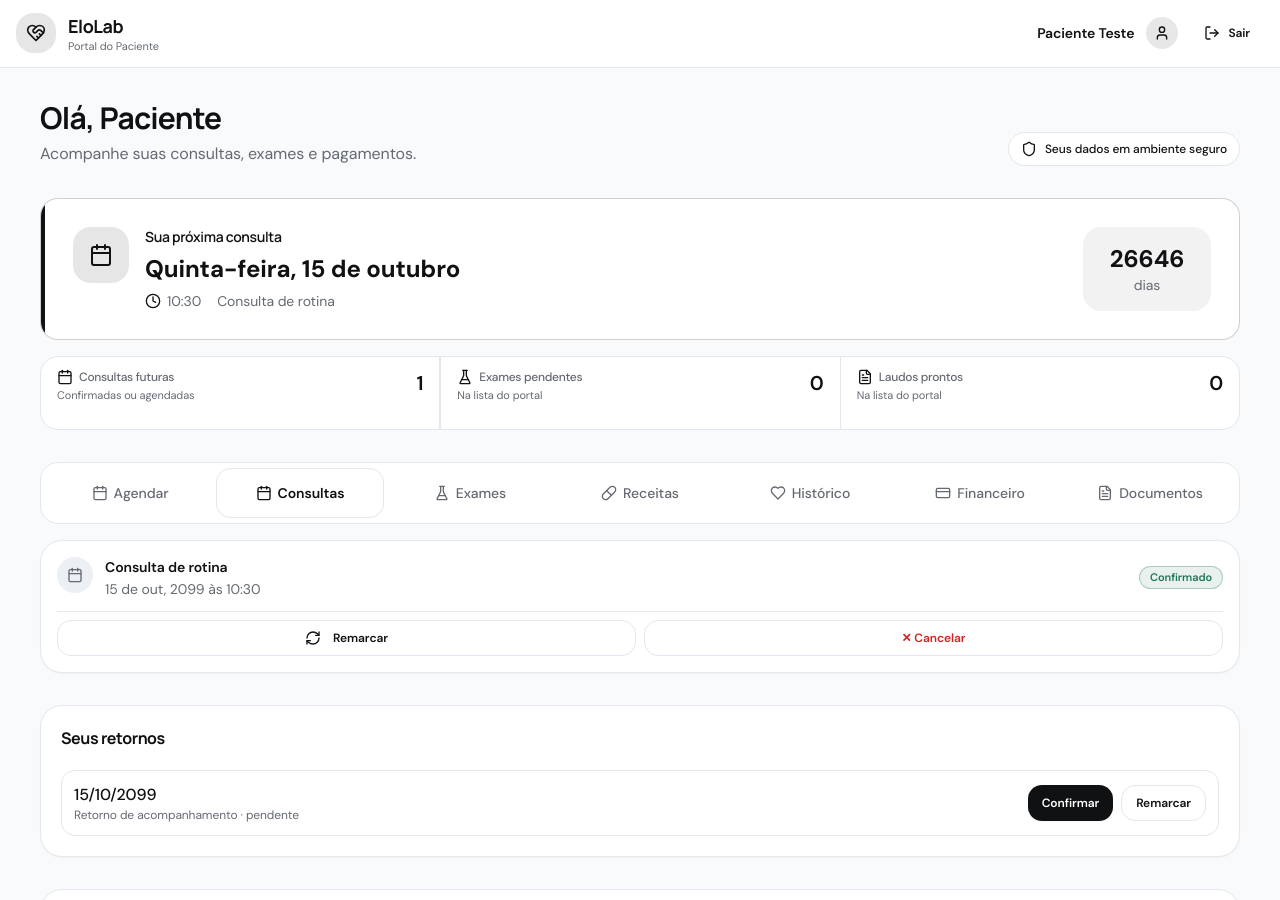
PortalPaciente — cancelamento de consulta › mostra a consulta remarcada como agendada mesmo se a atualização da lista falhar
Check: the text "Confirmado" is shown, box [1139,566,1223,589]
Click the button "Remarcar" below "15 de out, 2099" at (346, 638), box [57,620,636,656]
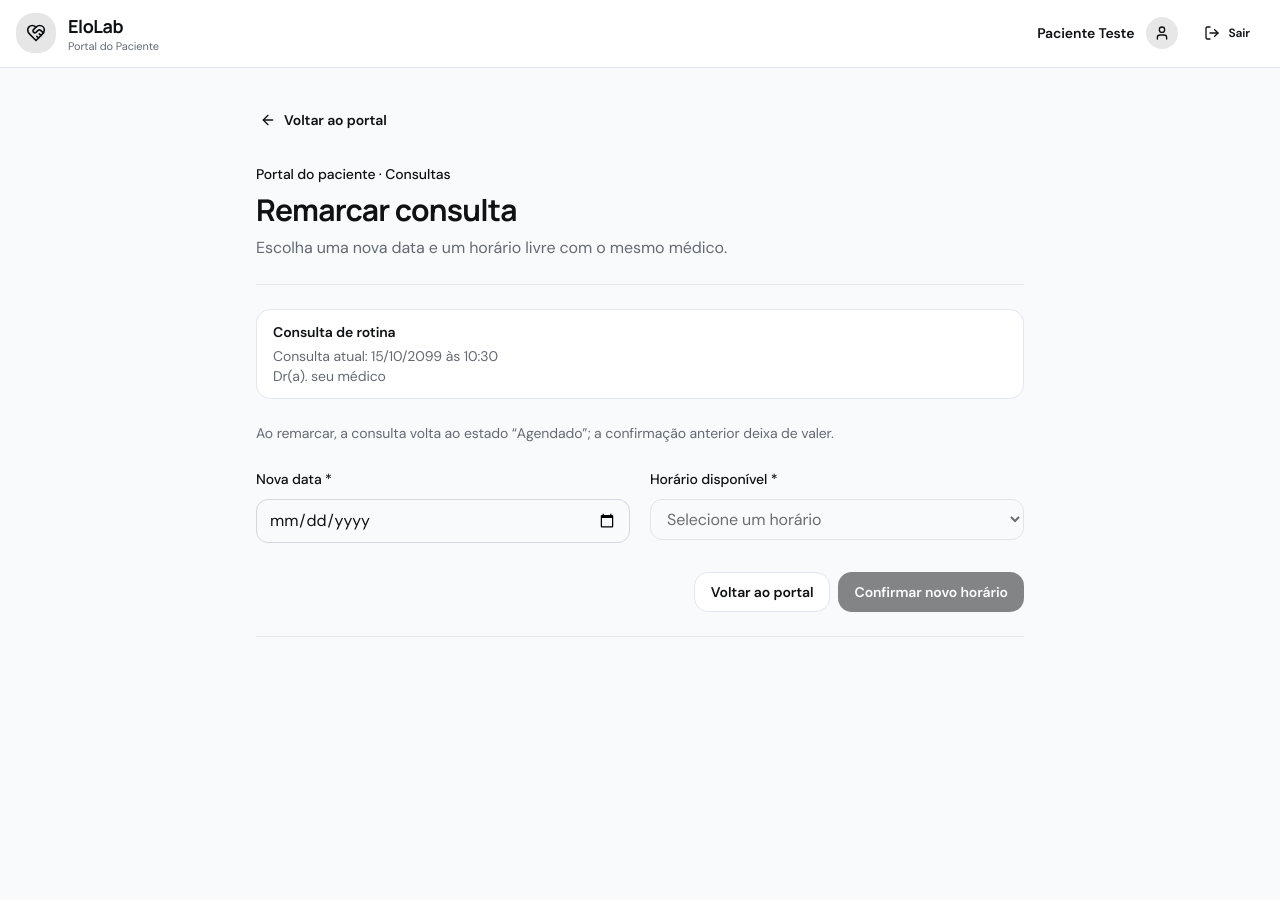
Type "2099-11-20" into the date field labelled "Nova data *" at (443, 520), box [256,498,630,542]
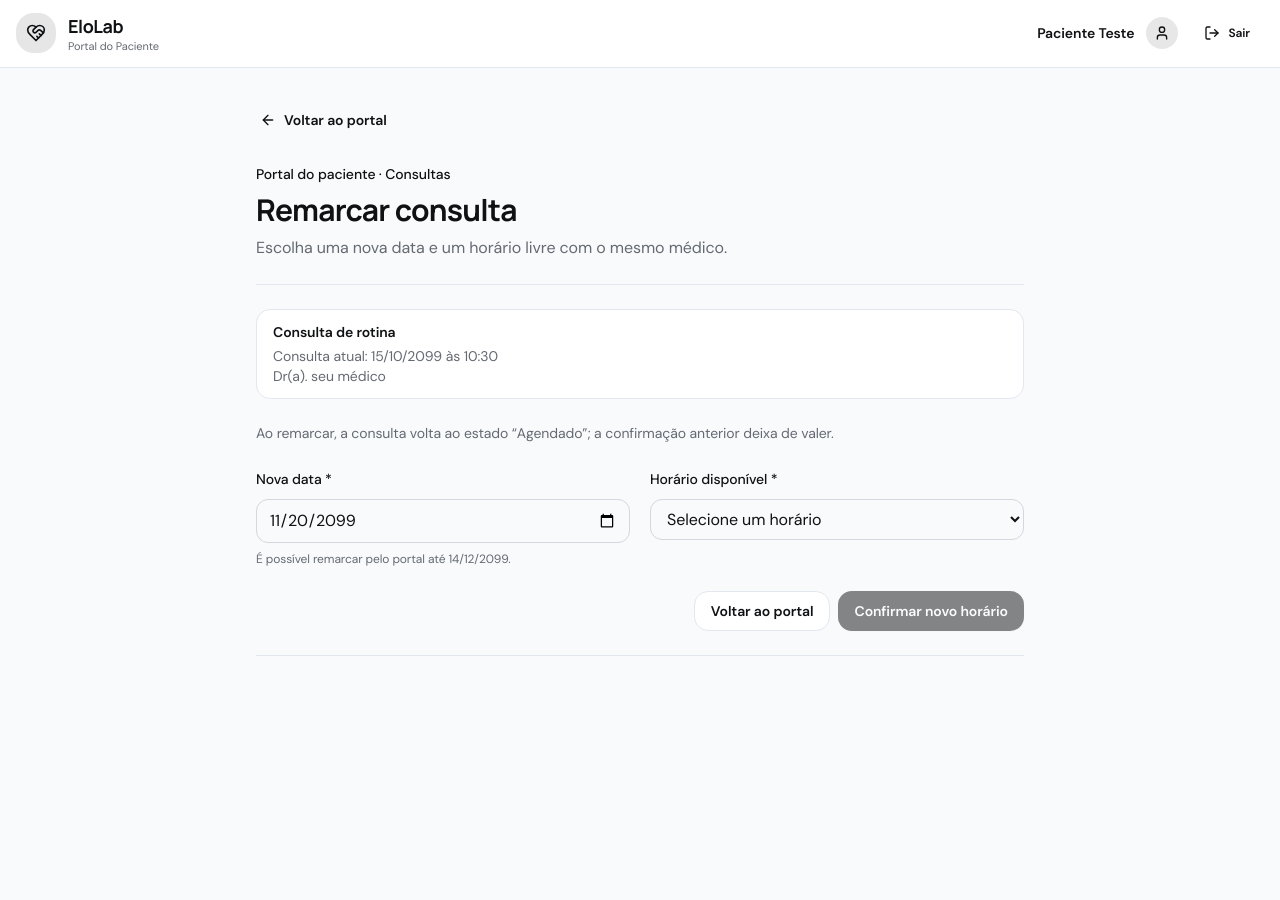
Select "09:00" in the dropdown labelled "Horário disponível *" at (837, 519), box [650,498,1024,540]
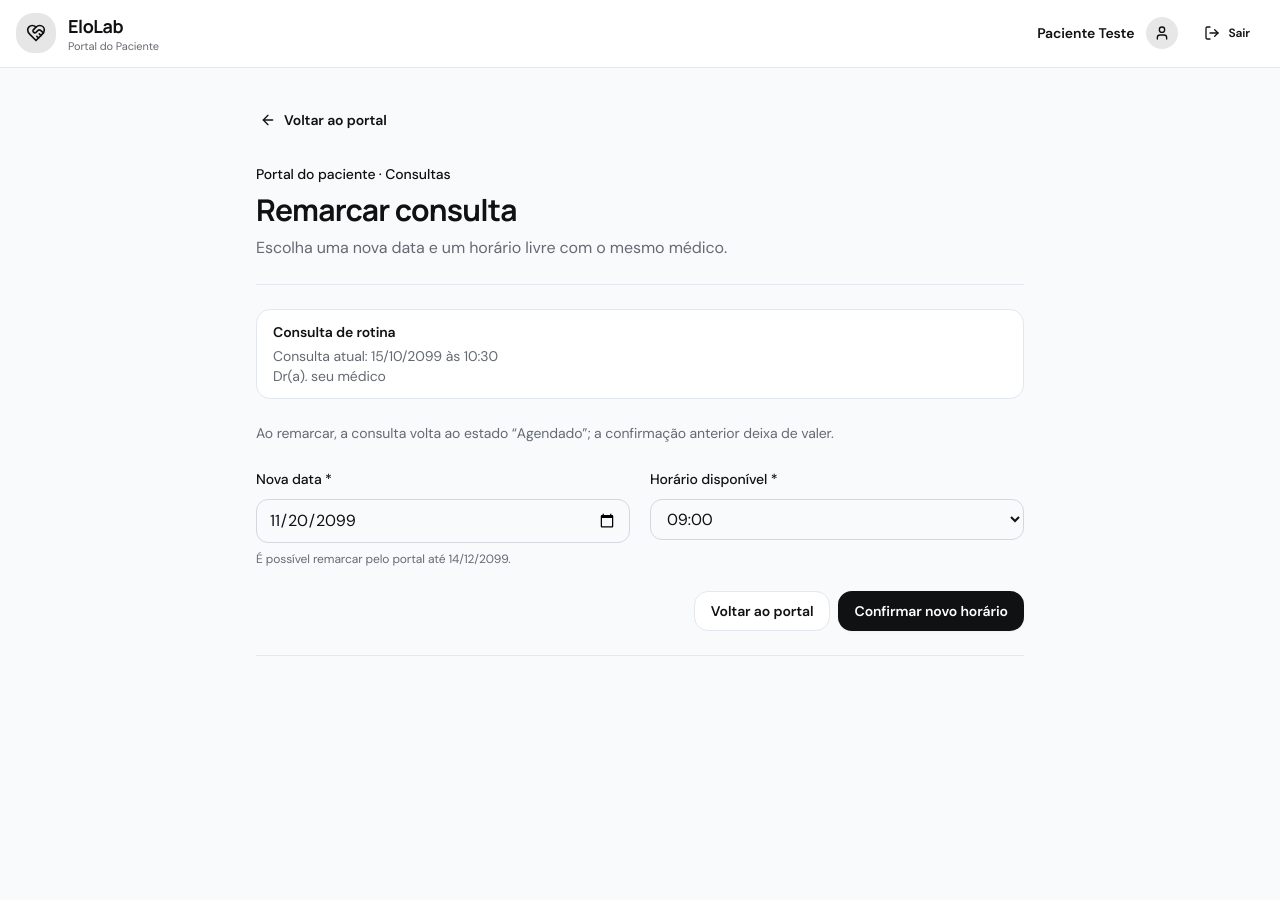
Click the button "Confirmar novo horário" at (931, 610), box [838,590,1024,630]
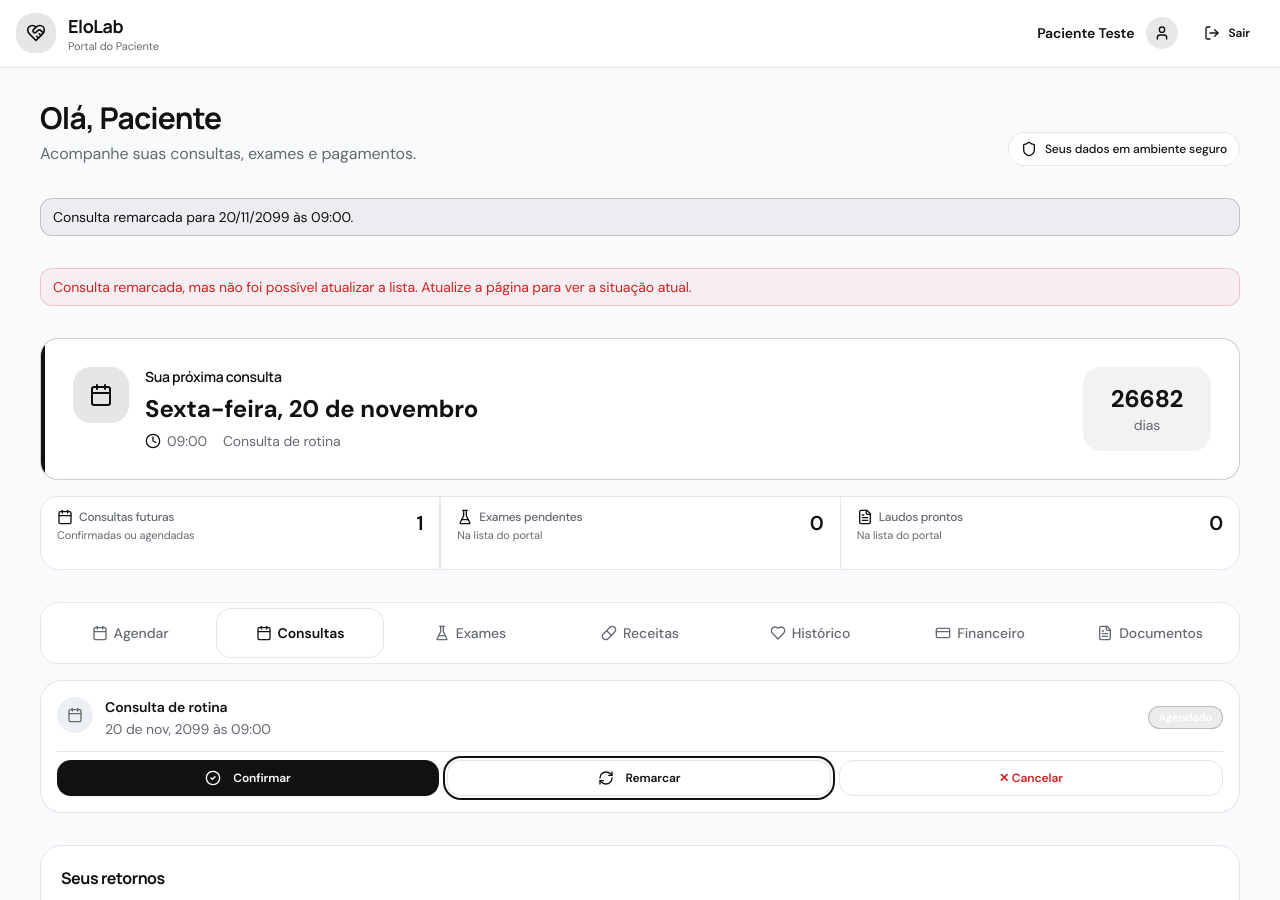
Check: the text "Agendado" is shown, box [1148,706,1223,729]
Check: the 2nd message shows "Consulta remarcada, mas não foi possível atualizar a lista.", box [53,278,692,296]
Check: the button "Confirmar" is shown, box [57,760,439,796]
